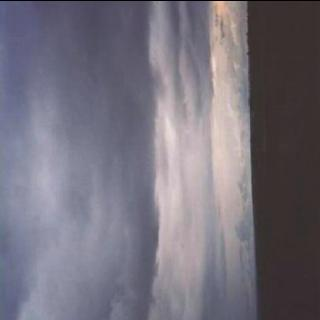Stratus: (0, 0, 217, 320)
